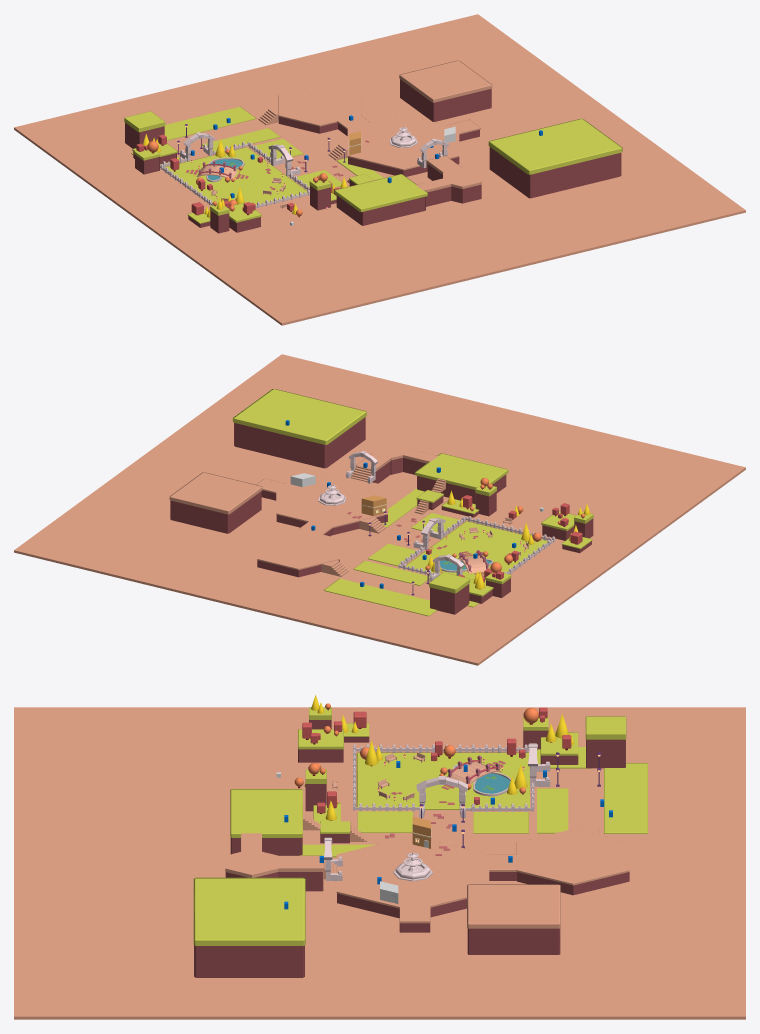
The model's file is Town_test.fbx.
3 renders of one model, top to bottom at view 1: azimuth 30°, elevation 25°; view 2: azimuth 150°, elevation 25°; view 3: azimuth 270°, elevation 25°, orthographic. The views are drawn at different scales.
Visible parts, largest first — view 1: Main_base, Grass.014, Square_street, Park_base, Dirt.009, Square_street.001, Grass.016, Grass.010, Dirt.010, Park_base.003, Dirt.006, Park_base.001 (+4 smaller); view 2: Main_base, Grass.014, Square_street, Dirt.009, Park_base, Square_street.001, Grass.016, Grass.010, Dirt.010, Park_base.003, Dirt.004, Park_base.001 (+5 smaller); view 3: Main_base, Grass.014, Square_street, Park_base, Square_street.001, Grass.016, Dirt.009, Grass.010, Park_base.003, Dirt.010, Park_base.001, Park_base.004 (+18 smaller).
Part boxes in pixels (x1,y1,x2,y2): Main_base: (14,14,745,325); Grass.014: (488,118,622,174); Square_street: (347,115,459,170); Park_base: (165,147,307,205); Dirt.009: (489,147,621,198); Square_street.001: (278,85,361,126); Grass.016: (399,60,492,102); Grass.010: (334,174,427,211); Dirt.010: (400,79,491,121); Park_base.003: (164,106,256,140); Dirt.006: (336,195,425,225); Park_base.001: (202,128,280,151); Main_base: (14,354,745,665); Grass.014: (232,389,366,444); Square_street: (276,472,387,527); Dirt.009: (234,417,365,468); Park_base: (406,521,547,582); Square_street.001: (257,528,339,570); Grass.016: (169,472,262,514); Grass.010: (415,453,508,489); Dirt.010: (170,491,261,533); Park_base.003: (323,578,436,616); Dirt.004: (430,584,469,614); Park_base.001: (353,560,429,585); Main_base: (14,707,745,1019); Grass.014: (193,877,305,945); Square_street: (336,836,489,908); Park_base: (356,752,529,809); Square_street.001: (516,829,629,885); Grass.016: (467,884,560,928); Dirt.009: (194,945,304,977); Grass.010: (230,789,302,837); Park_base.003: (604,763,647,833); Dirt.010: (467,928,560,954); Park_base.001: (537,788,568,833); Park_base.004: (473,812,528,833).
Bounding box in the file's own units: 174 × 13 × 174.
